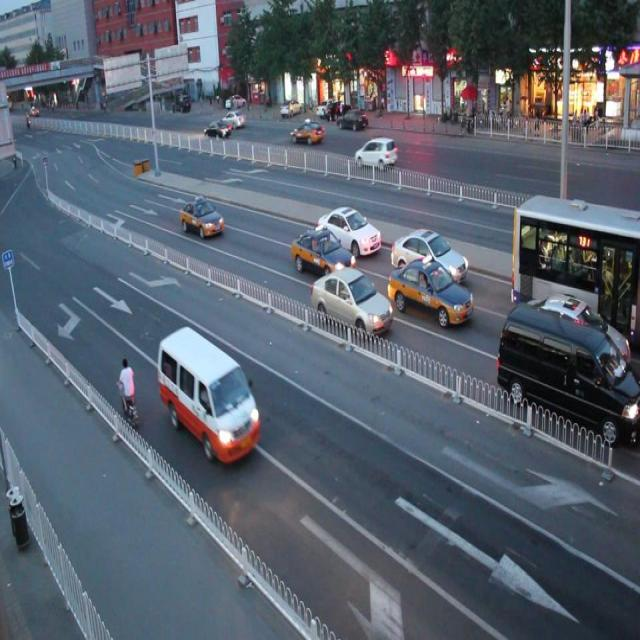car: (514, 293, 628, 392), (388, 260, 474, 330), (312, 270, 392, 337), (390, 228, 467, 283), (291, 225, 354, 282), (316, 204, 381, 254), (181, 196, 224, 240), (354, 136, 396, 170), (290, 119, 323, 143), (202, 119, 231, 142)
truck: (496, 300, 640, 446), (159, 325, 260, 464)
van: (510, 193, 640, 350)
